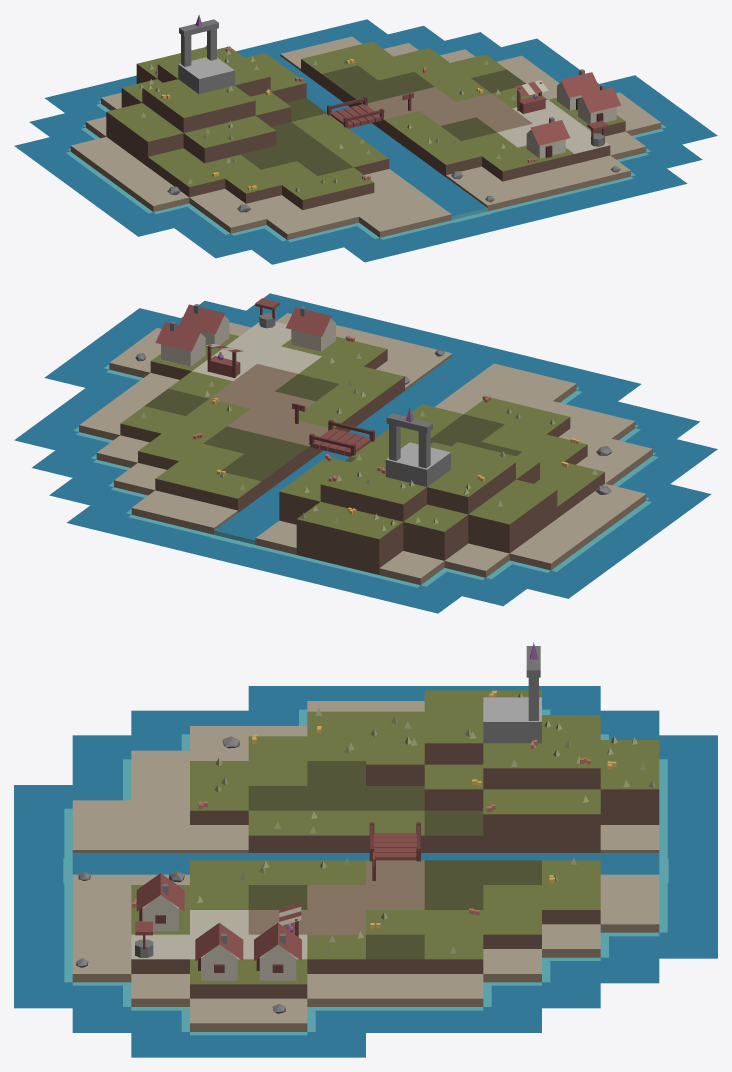
The model's file is island.glb.
3 views of the same model, one above another, from view 1: azimuth 30°, elevation 25°; view 2: azimuth 150°, elevation 25°; view 3: azimuth 270°, elevation 25° (orthographic). The views are drawn at different scales.
Parts seen in each view (by area): view 1: island; view 2: island; view 3: island.
Part boxes in pixels (x1=…): island: x1=14, y1=14, x2=717, y2=264; island: x1=14, y1=293, x2=717, y2=613; island: x1=14, y1=642, x2=717, y2=1057.
Size of the model in its own units: 15 by 2.92 by 12.
